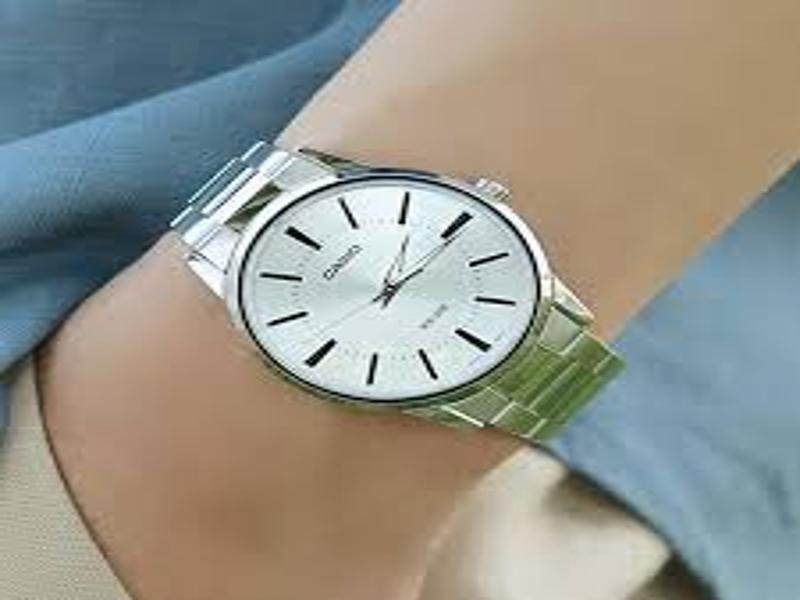watch: (155, 141, 627, 447)
